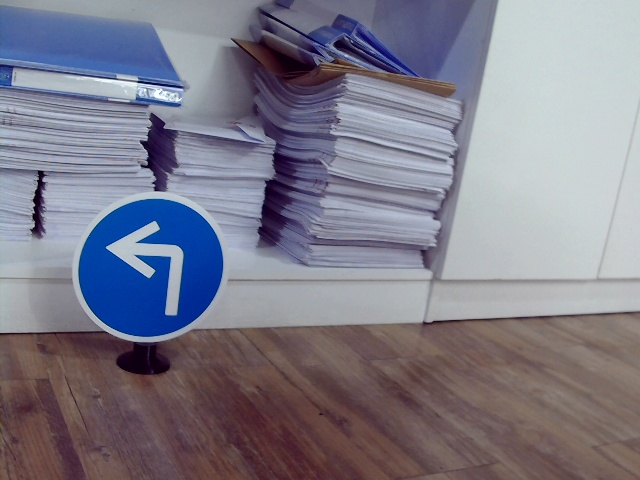turn_left: (109, 215, 185, 316)
